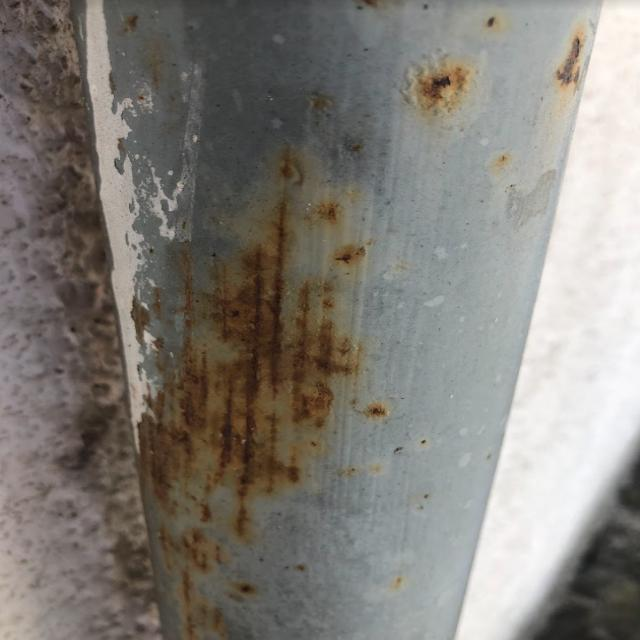Corrosion: (128, 150, 392, 640), (414, 62, 468, 106), (555, 30, 590, 88), (396, 435, 430, 456), (124, 16, 142, 32), (348, 139, 364, 157), (496, 152, 512, 166), (359, 0, 379, 11), (485, 16, 500, 28), (294, 564, 308, 574), (393, 576, 408, 585)
